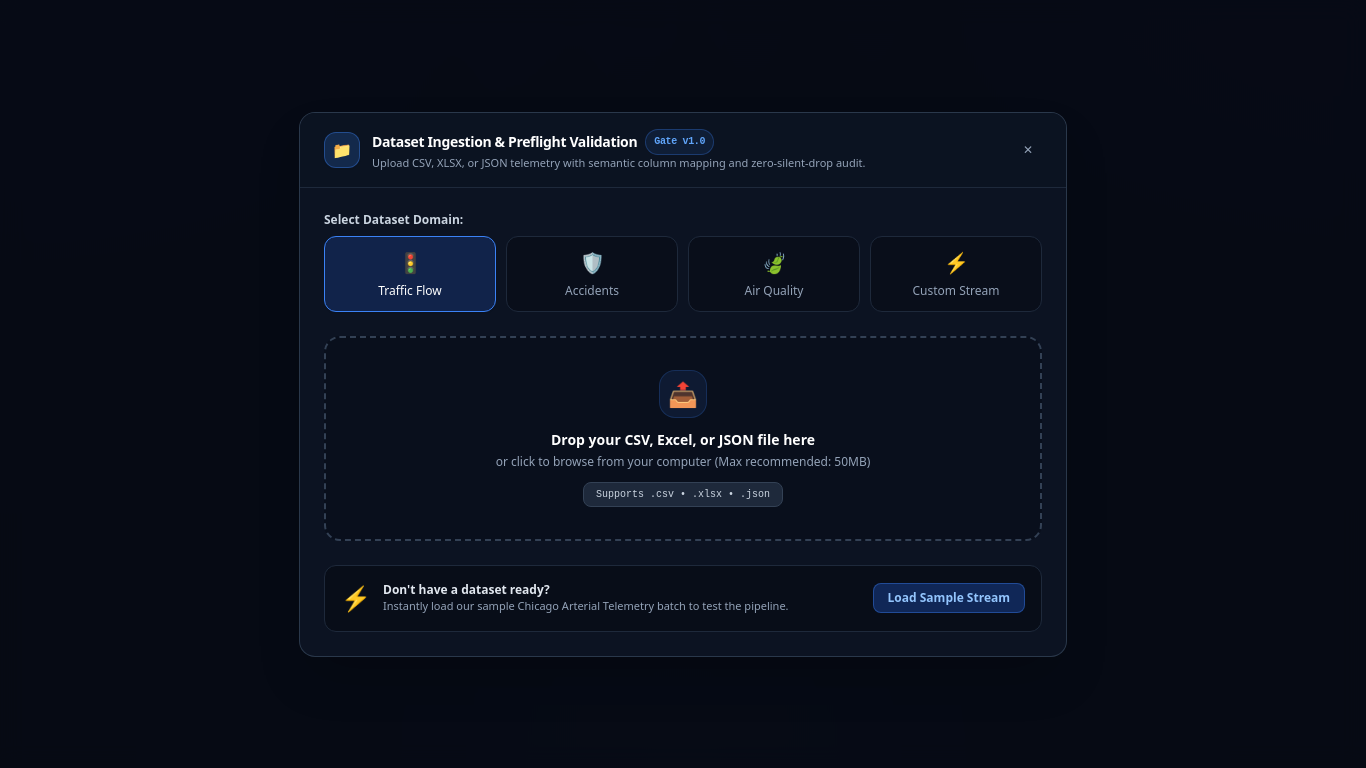
Test: Dataset Ingestion & Management Module › loads sample dataset stream into mapping step
The image size is (1366, 768).
What coordinates should you click on to do the following:
click the button "Load Sample Stream"
I would click on:
 (949, 598)
Its box is [873,583,1025,613].
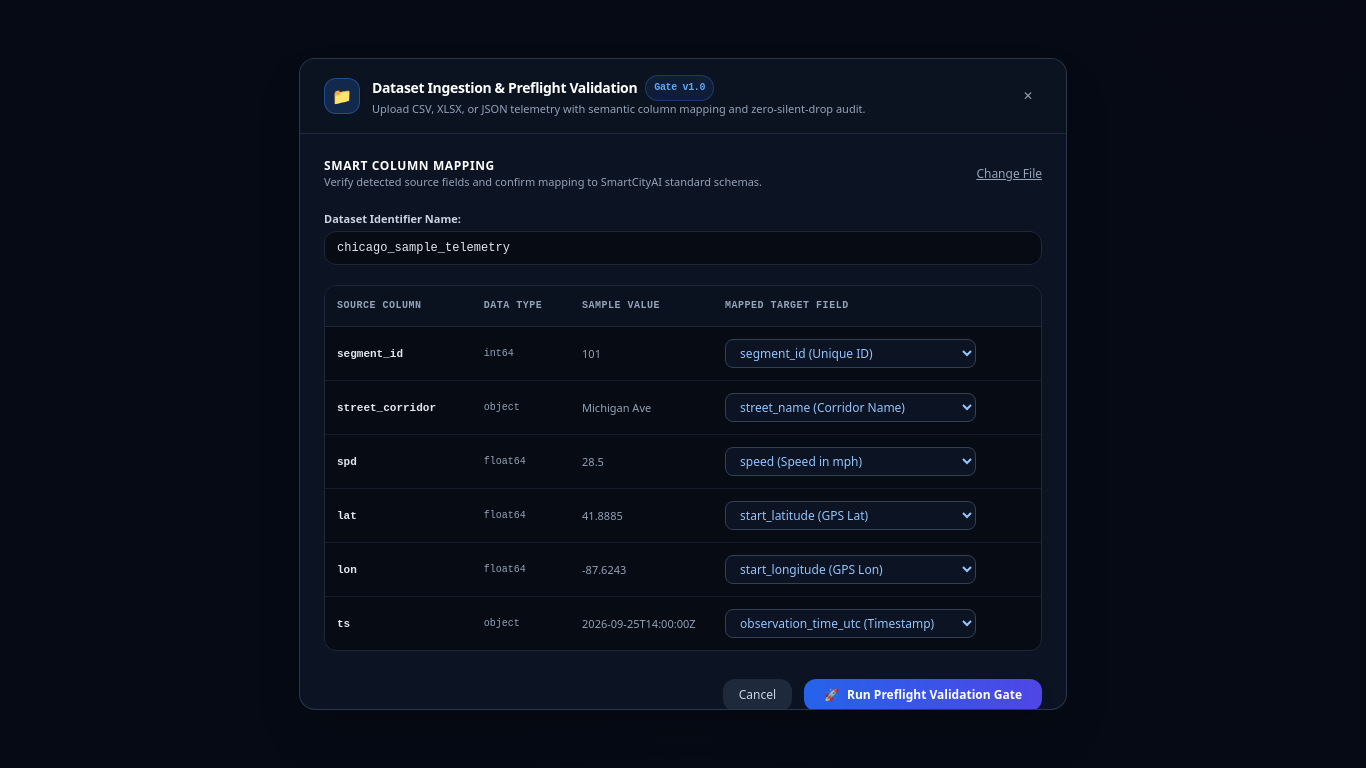
expect the heading "Smart Column Mapping" is shown: met, box [324,157,495,174]
expect the button "🚀 Run Preflight Validation Gate" is shown: met, box [804,679,1042,709]
